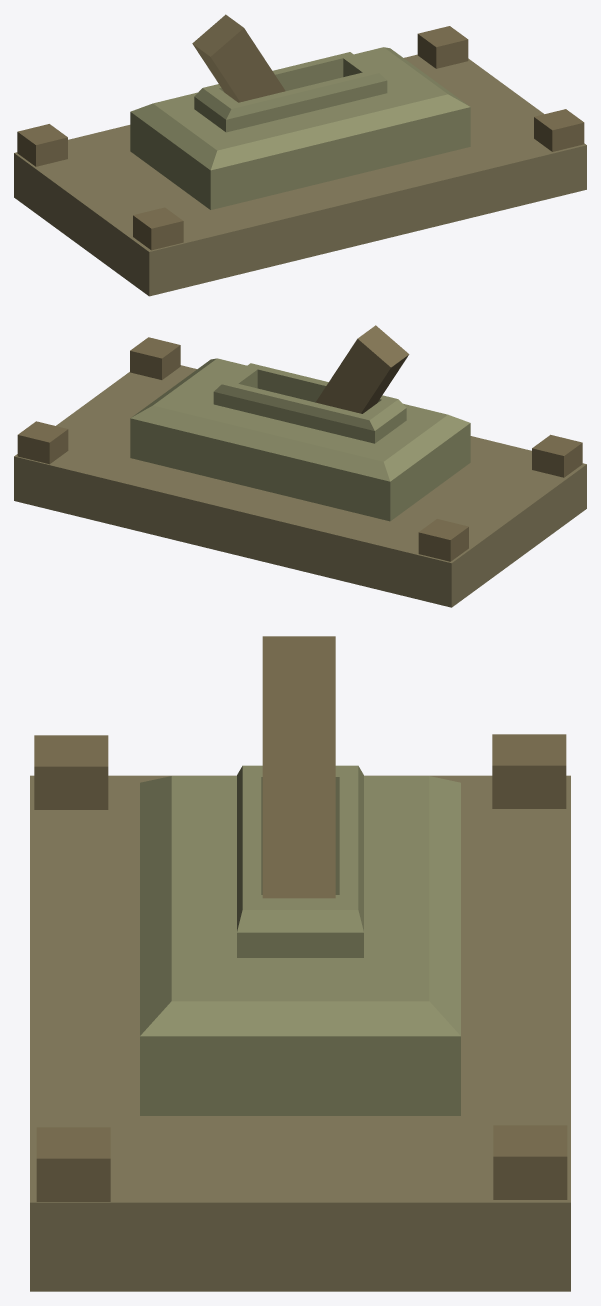
File: Switch_2.fbx
3 views of the same model, one above another, from view 1: azimuth 30°, elevation 25°; view 2: azimuth 150°, elevation 25°; view 3: azimuth 270°, elevation 25° (orthographic). The views are drawn at different scales.
Parts seen in each view (by area): view 1: Cube.002, Cube.003; view 2: Cube.002, Cube.003; view 3: Cube.002, Cube.003.
Part boxes in pixels (<box>): Cube.002: <box>14,26,586,296</box>; Cube.003: <box>192,14,285,102</box>; Cube.002: <box>14,337,586,607</box>; Cube.003: <box>315,325,409,413</box>; Cube.002: <box>30,734,570,1291</box>; Cube.003: <box>262,636,335,898</box>.
Size of the model in its own units: 4.08 by 1.68 by 2.19.
